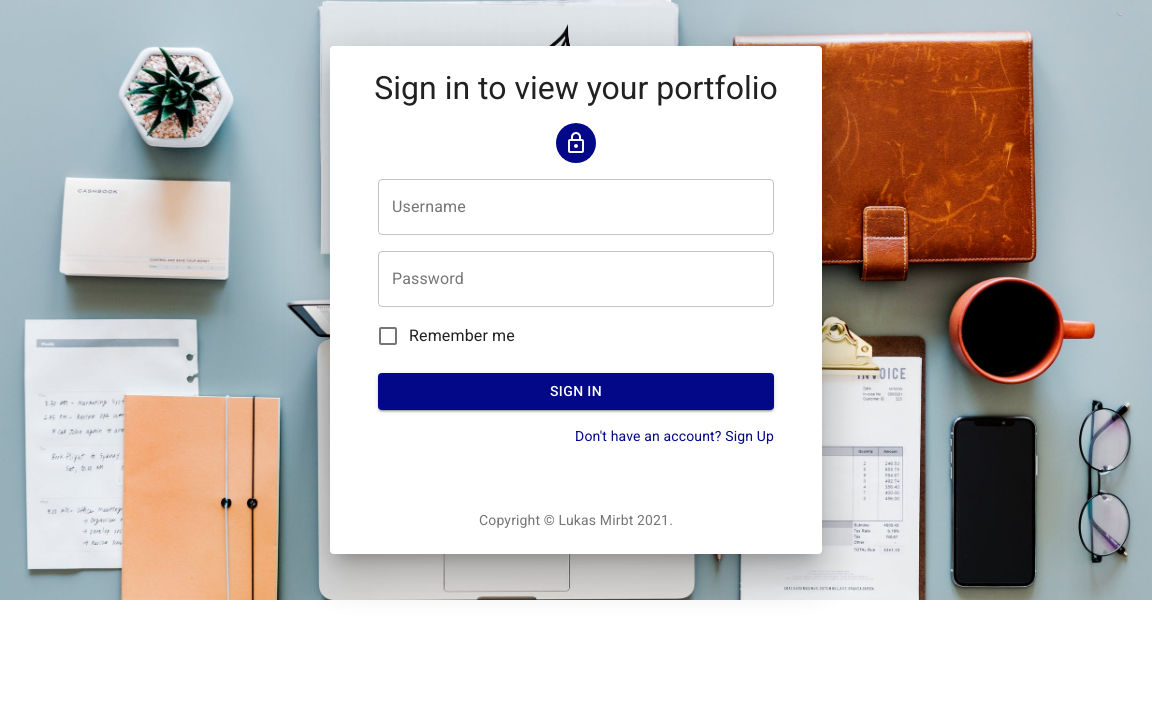
Login › Can navigate from sign-in to sign-up and back
Click the button with test id "goToSignUpLink".
click(576, 436)  # box 378,426 -> 774,446
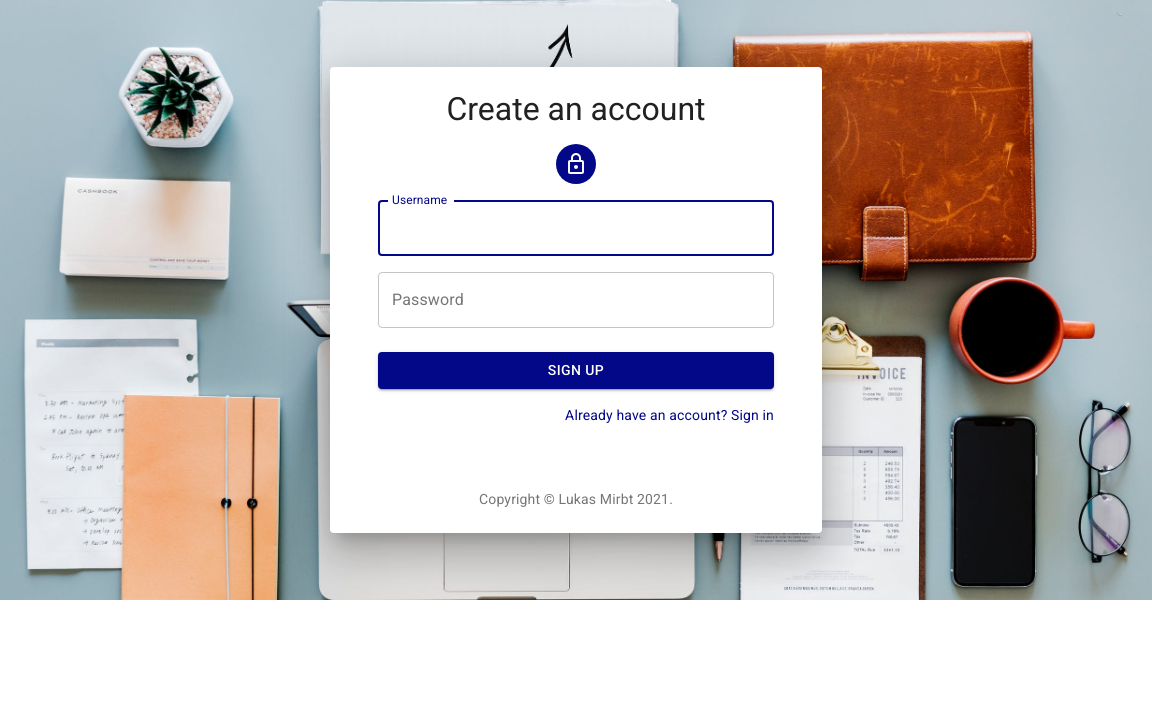
Expected: the button with test id "signUpButton" is shown, 378,352 -> 774,389
Now the button with test id "signInButton" is gone
Click the button with test id "goToSignInLink".
click(576, 415)  # box 378,405 -> 774,425
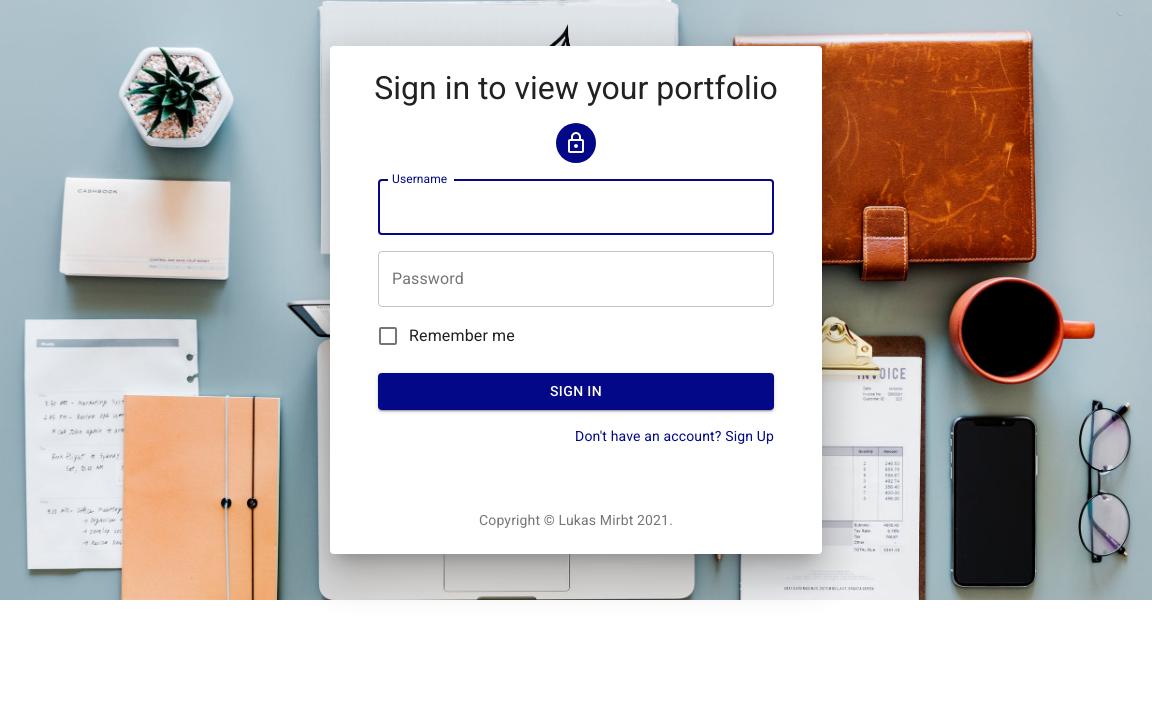
Now the button with test id "signUpButton" is gone
Now the button with test id "signInButton" is shown, box 378,373 -> 774,410
